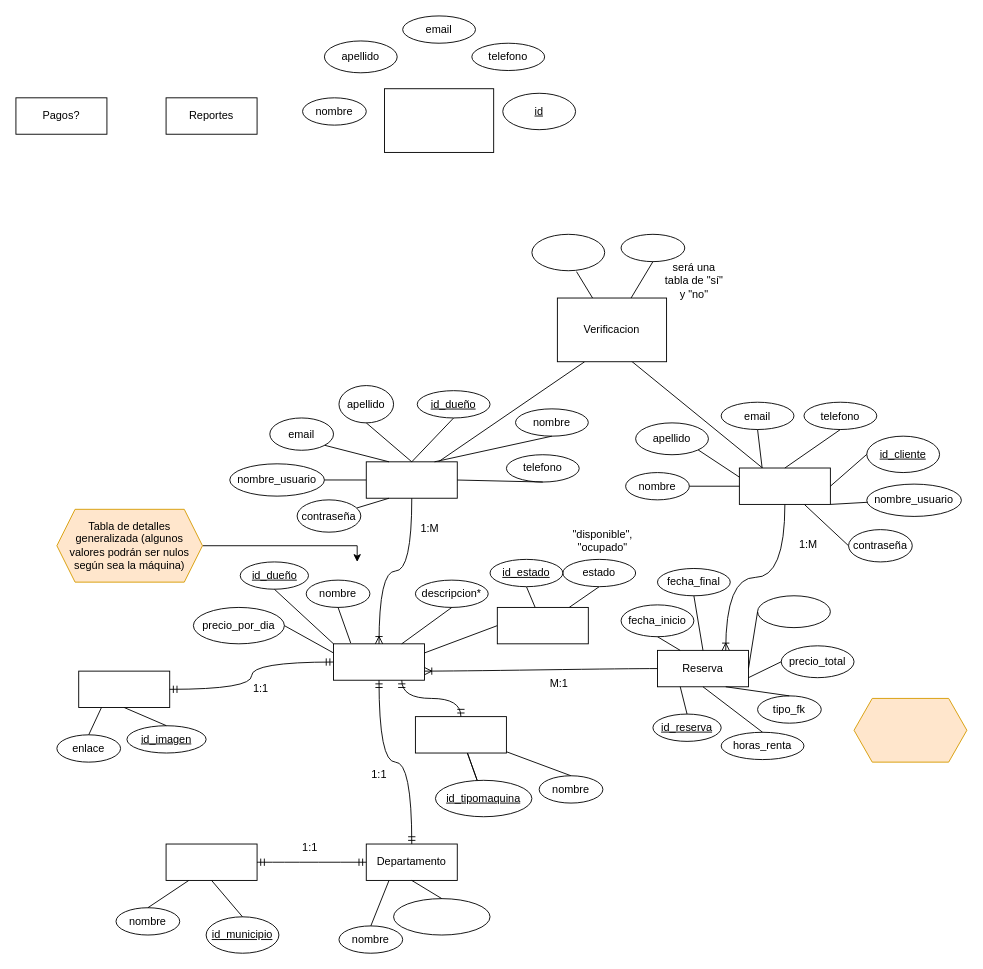
This 983x969 diagram has some shape labels left out. Each missing label, with the centre of its shape:
Cliente: (784,485)
Dueño: (411,479)
EstadoMaquina: (542,625)
id_departamento: (441,916)
id_verificacion: (568,252)
Imagen: (124,689)
Maquinaria: (379,661)
Mejorar la tabla de reservas: (910,730)
Municipio: (211,861)
Precio_hora: (793,611)
TipoMaquina: (460,734)
Usuario: (439,120)
verificada: (652,247)
